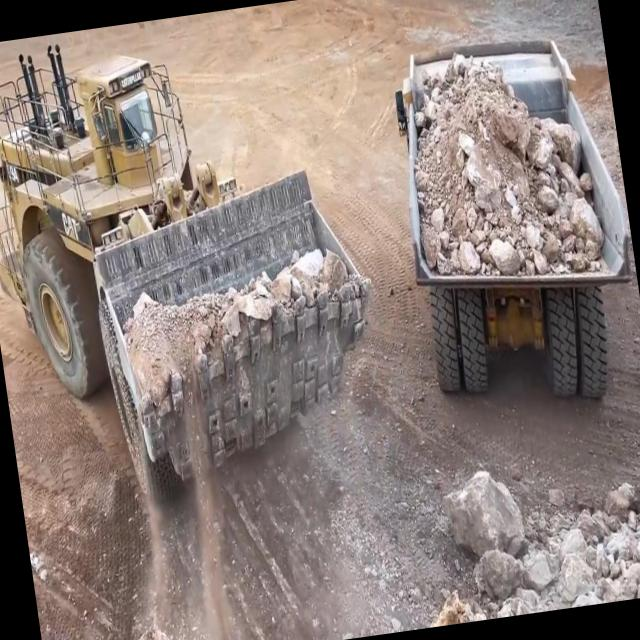Camion volquete: (378, 18, 640, 432)
pala cargadora: (0, 0, 400, 520)
